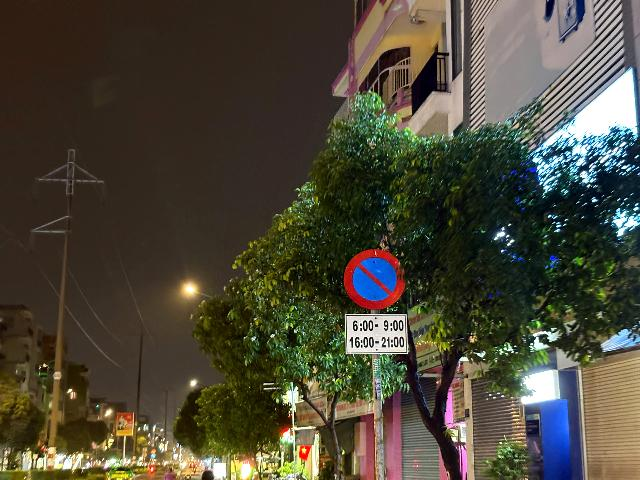cam-do-xe: (344, 248, 405, 309)
